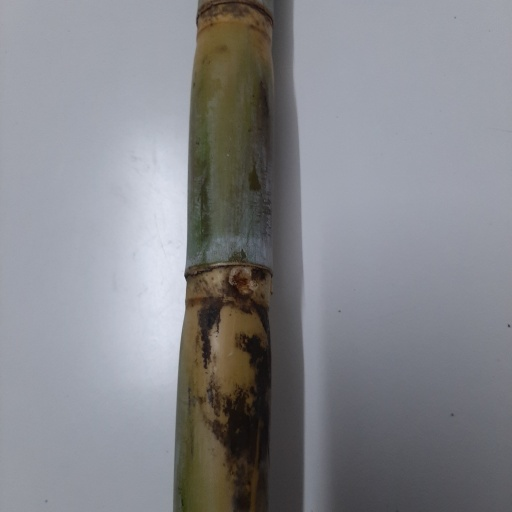Damage_Bud: (225, 265, 255, 299)
